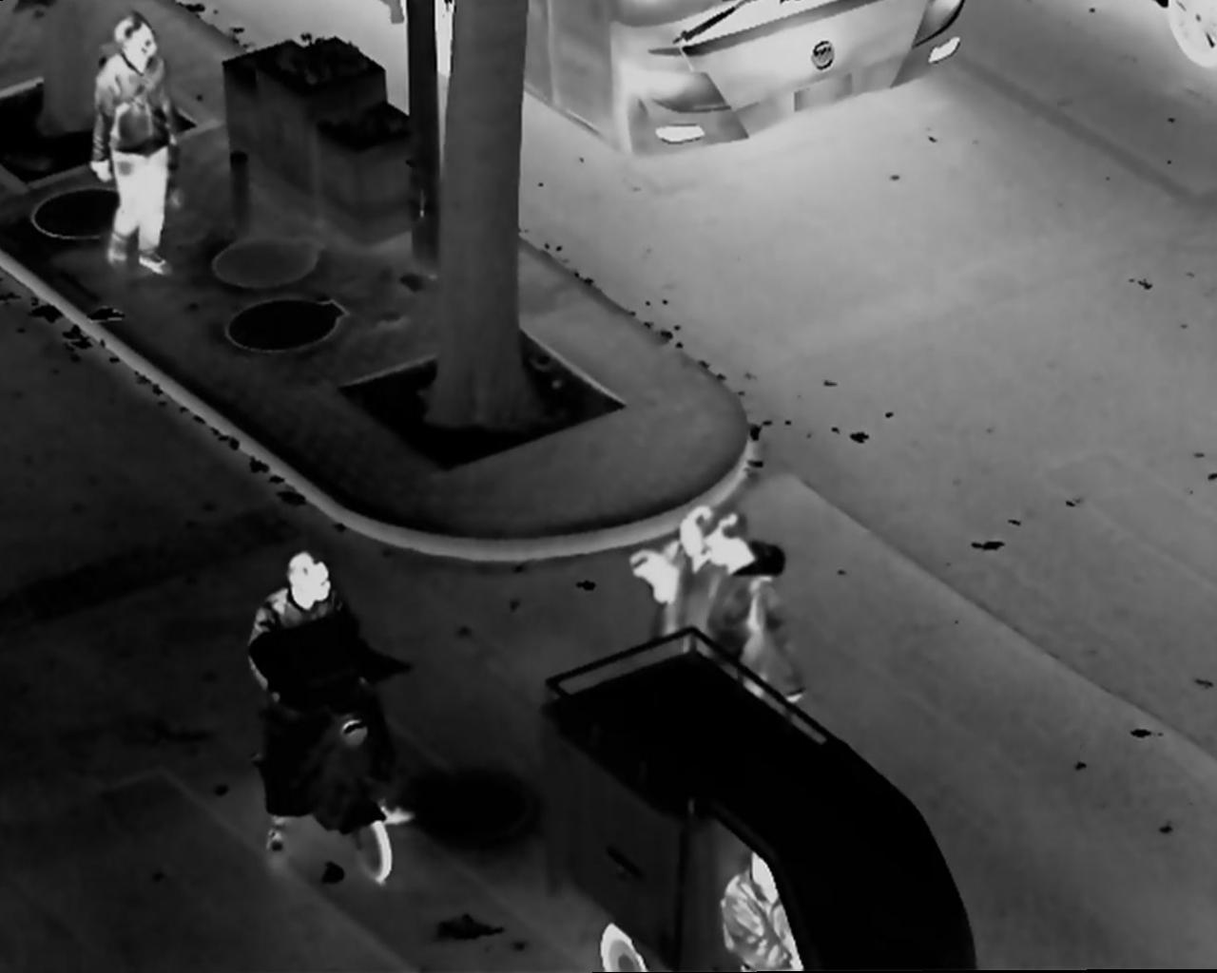person: (249, 549, 418, 857), (95, 15, 180, 278), (700, 502, 804, 710), (639, 505, 733, 653), (714, 846, 802, 973)
